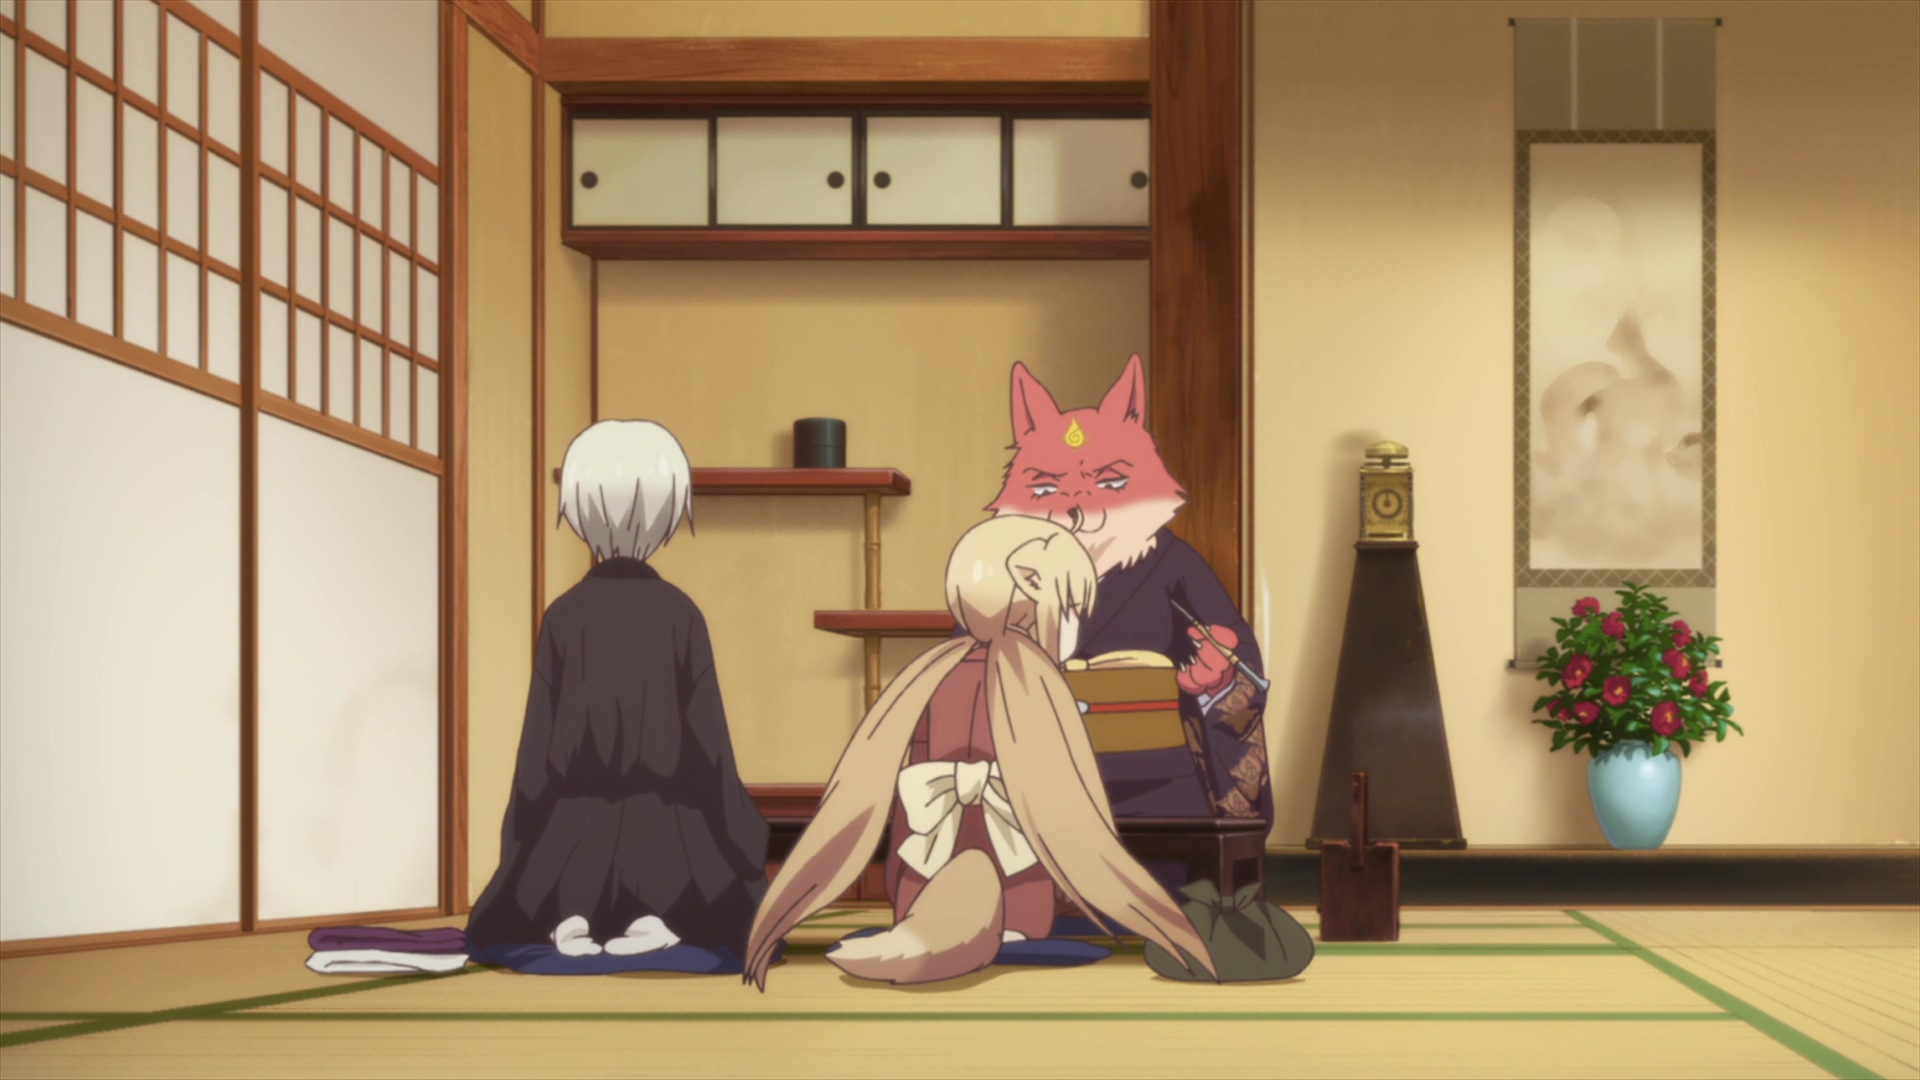八百比丘尼: (469, 419, 774, 960)
柚: (745, 516, 1218, 993)
椿: (978, 357, 1269, 949)
